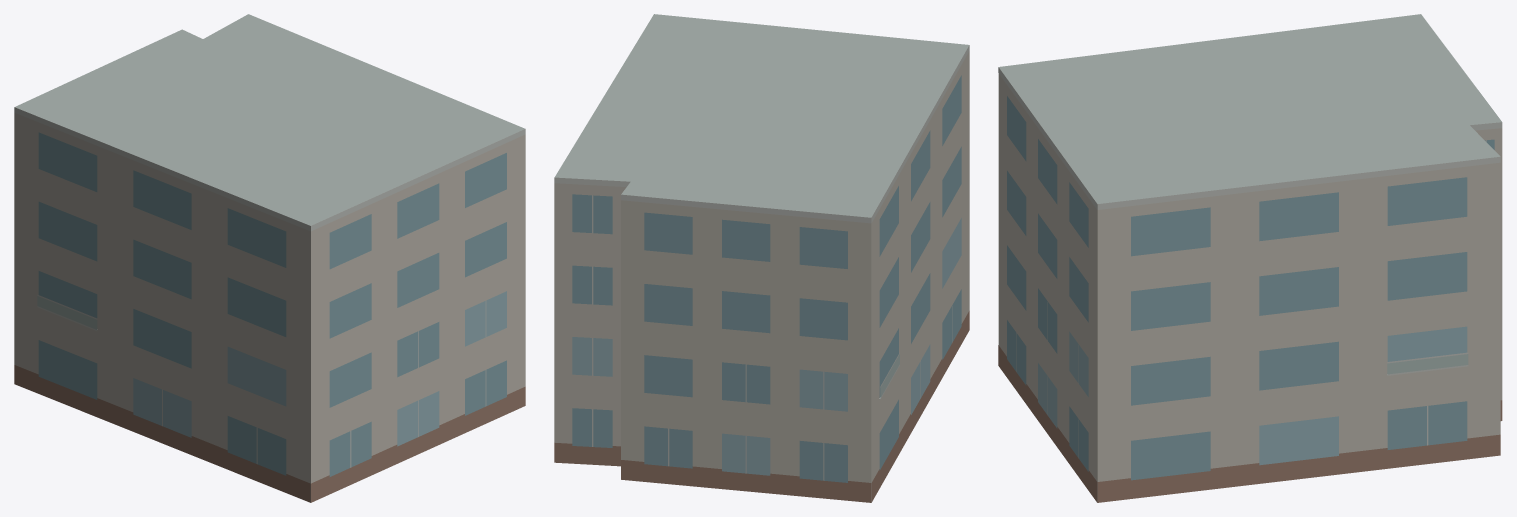
File: survey-upis-32845827.glb
The picture shows the model from 3 angles, left to right: view 1: azimuth 30°, elevation 25°; view 2: azimuth 150°, elevation 25°; view 3: azimuth 270°, elevation 25°; orthographic projection. The views are drawn at different scales.
Parts seen in each view (by area): view 1: survey-upis-32845827.tmp; view 2: survey-upis-32845827.tmp; view 3: survey-upis-32845827.tmp.
Boxes of the visible parts, x1,y1,x2,y2 form: survey-upis-32845827.tmp: (14,14,525,502); survey-upis-32845827.tmp: (554,14,969,502); survey-upis-32845827.tmp: (998,14,1502,502).
Size of the model in its own units: 16.8 by 12.3 by 18.82.
